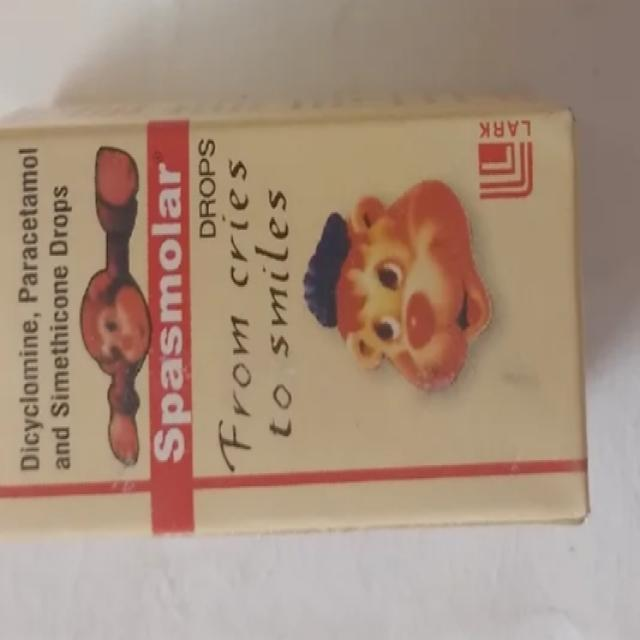drug-name: (150, 158, 191, 476)
